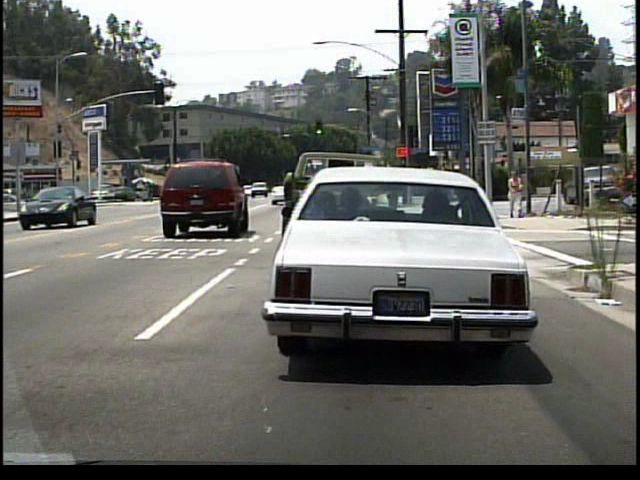person: (507, 170, 527, 222)
